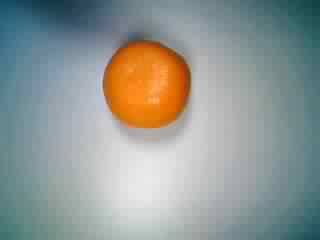orange: (98, 37, 196, 136)
